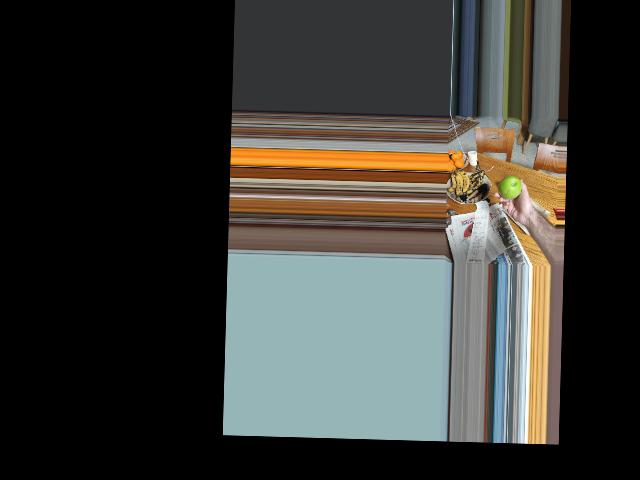apple: (498, 175, 521, 201)
